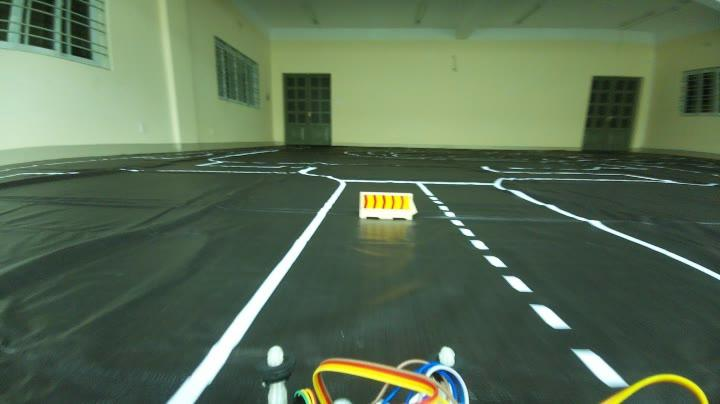roadblock: (354, 184, 420, 229)
